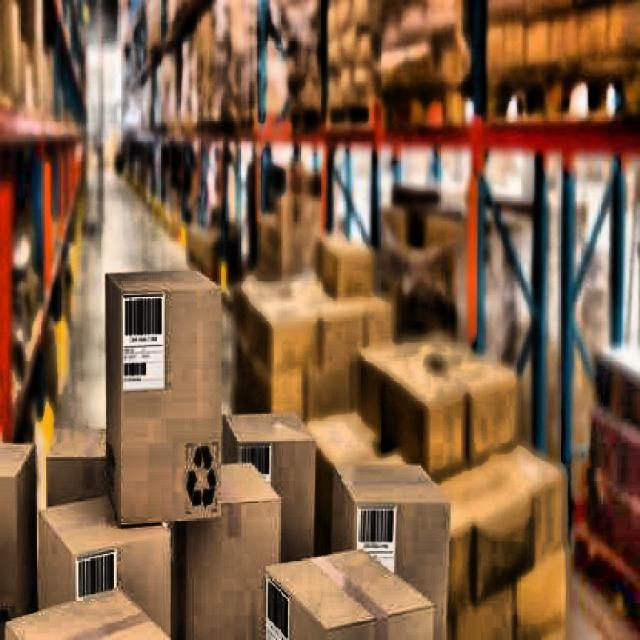Cardbox: (88, 258, 232, 520), (267, 551, 434, 640), (268, 575, 291, 640)
